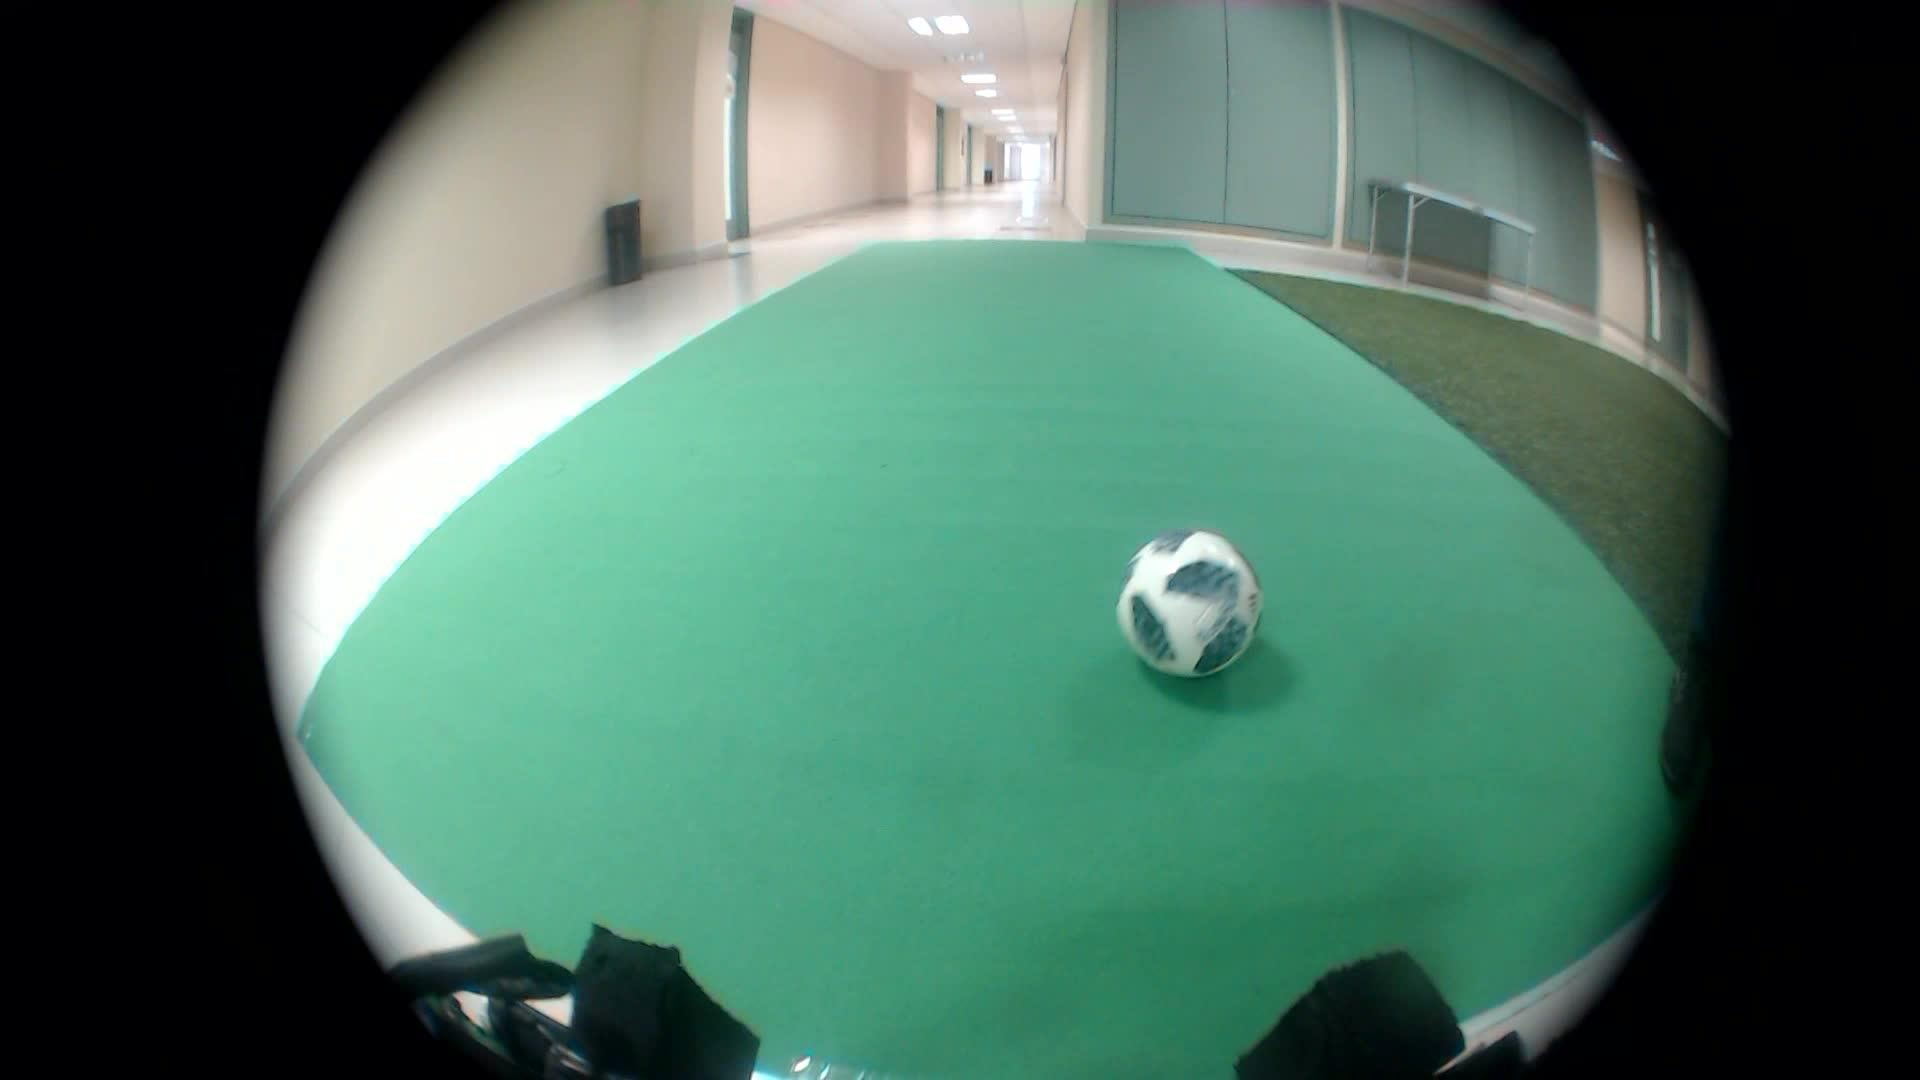ball: (1102, 502, 1280, 696)
